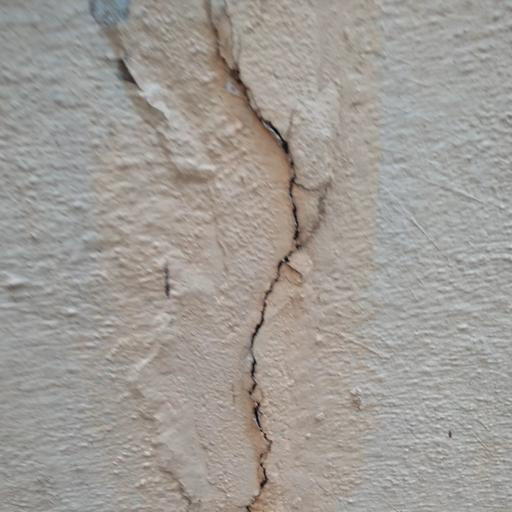major_crack: (197, 0, 337, 512)
